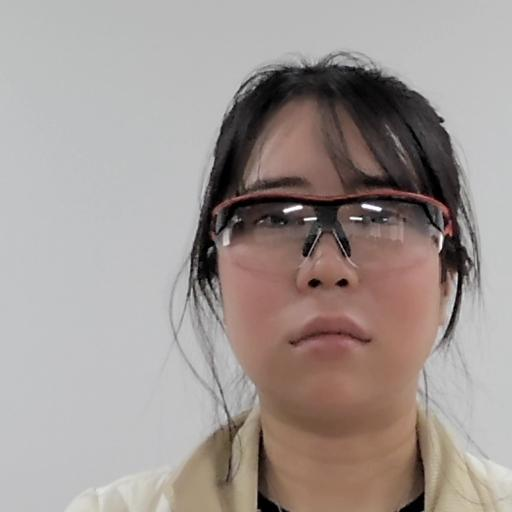glasses: (197, 64, 469, 426)
